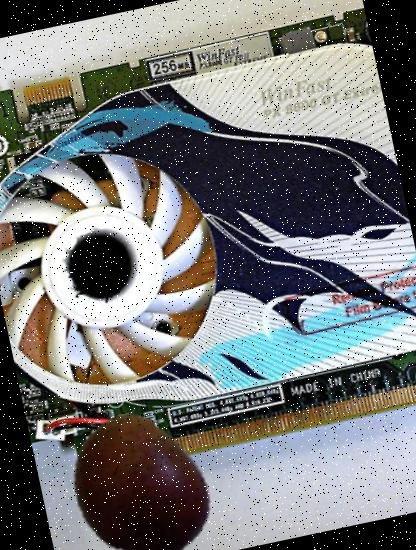Mango: (53, 398, 225, 550)
